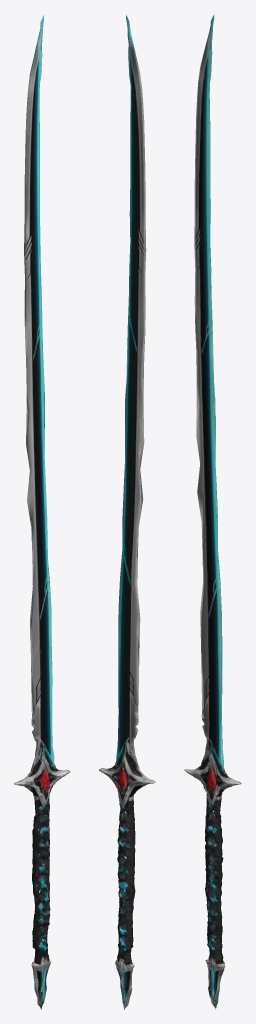
File: weapon_phantom_katana.glb
3 views of the same model, side by side, from view 1: azimuth 30°, elevation 25°; view 2: azimuth 150°, elevation 25°; view 3: azimuth 330°, elevation 25° (orthographic).
Bounding box in the file's own units: 0.0557 × 0.9497 × 0.0161.
1 material, 1 textured.
